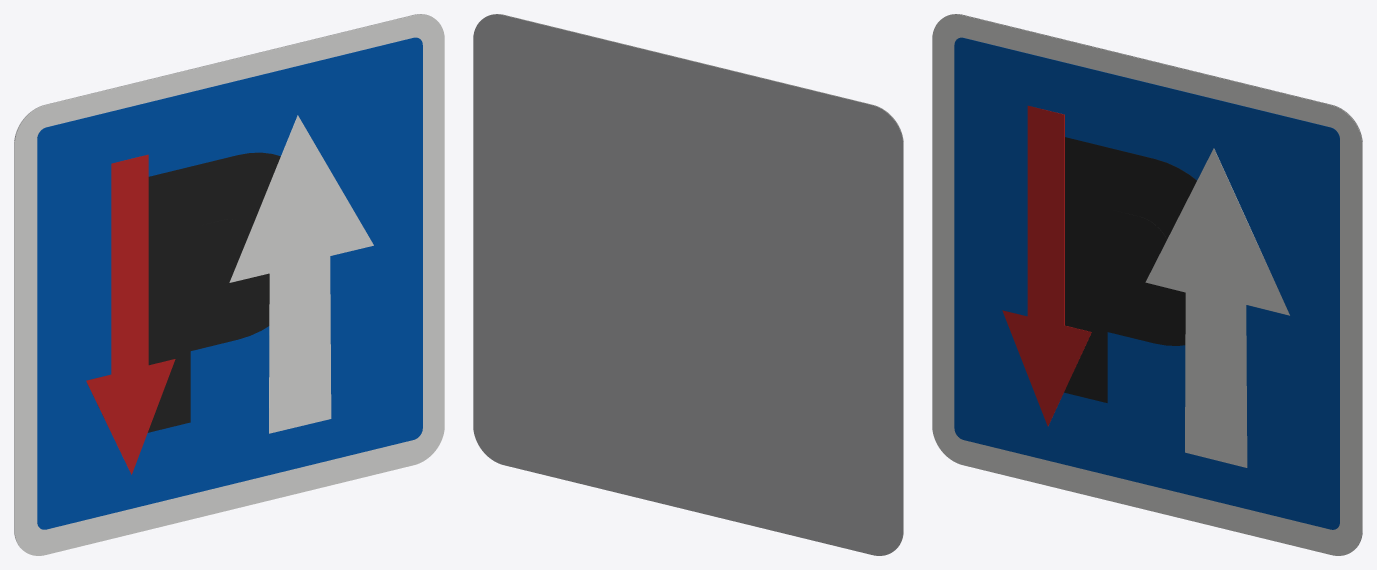
3 renders of one model, left to right at view 1: azimuth 30°, elevation 25°; view 2: azimuth 150°, elevation 25°; view 3: azimuth 330°, elevation 25°, orthographic.
Parts seen in each view (by area): view 1: C18_p01, C18_p00, C18_p05, C18_p02, C18_p04, C18_p03, C18_dos; view 2: C18_dos, C18_p00; view 3: C18_p01, C18_p00, C18_p05, C18_p02, C18_p04, C18_p03, C18_dos.
Part boxes in pixels (box(x1,y1,x2,y2)): C18_p01: box(37, 37, 422, 529); C18_p00: box(14, 14, 444, 555); C18_p05: box(229, 115, 373, 433); C18_p02: box(148, 152, 280, 432); C18_p04: box(86, 154, 175, 474); C18_p03: box(193, 219, 250, 295); C18_dos: box(14, 14, 431, 547); C18_dos: box(473, 14, 903, 555); C18_p00: box(486, 14, 903, 547); C18_p01: box(954, 37, 1339, 529); C18_p00: box(932, 14, 1362, 555); C18_p05: box(1145, 148, 1289, 467); C18_p02: box(1064, 137, 1196, 402); C18_p04: box(1002, 105, 1091, 426); C18_p03: box(1110, 209, 1166, 286); C18_dos: box(945, 14, 1362, 547).
Size of the model in its own units: 0.7 by 0.6999 by 0.0039.
